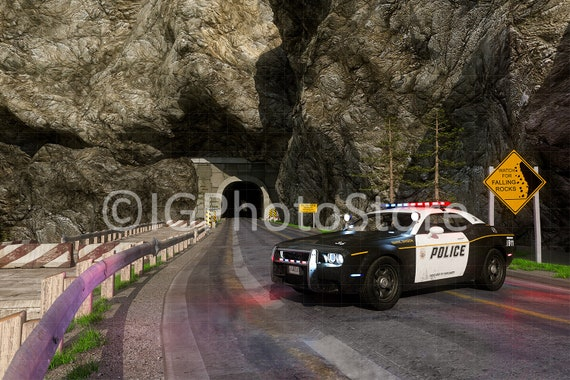Person: (267, 200, 517, 307)
